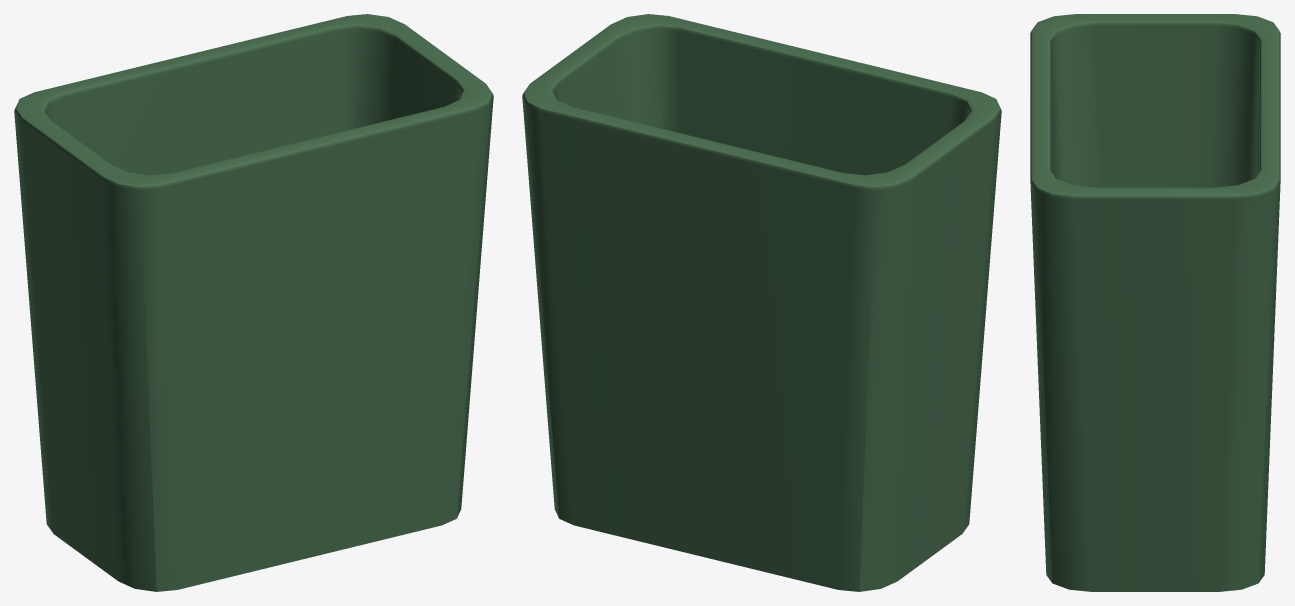
Rendered from trashcan_ember_M.fbx.
3 views of the same model, side by side, from view 1: azimuth 30°, elevation 25°; view 2: azimuth 150°, elevation 25°; view 3: azimuth 270°, elevation 25° (orthographic). The views are drawn at different scales.
Visible parts, largest first — view 1: pCube10; view 2: pCube10; view 3: pCube10.
Boxes of the visible parts, <box> form: pCube10: <box>14,14,493,591</box>; pCube10: <box>522,14,1001,591</box>; pCube10: <box>1030,14,1280,591</box>.
Bounding box in the file's own units: 0.109 × 0.113 × 0.0628.
